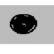correct: (8, 11, 40, 36)
